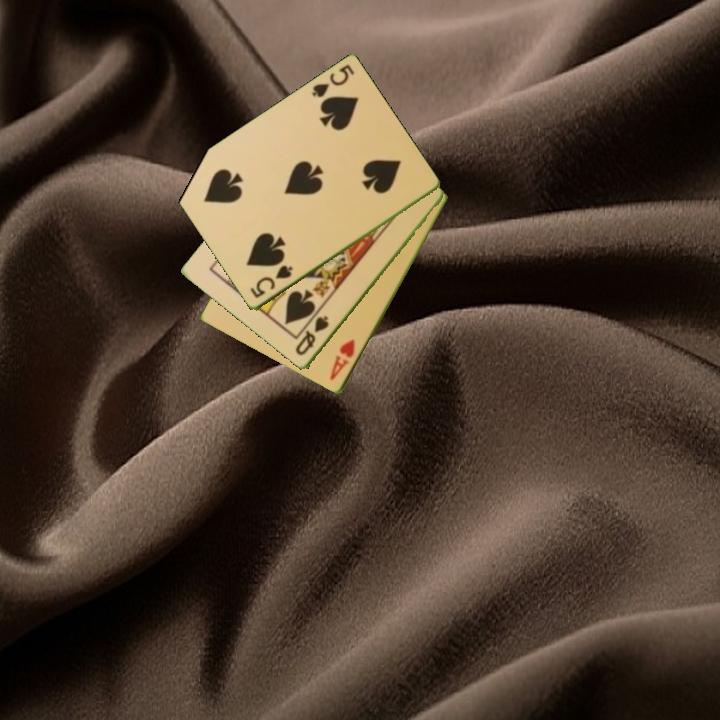5s: (246, 262, 296, 302), (308, 61, 357, 101)
Ah: (326, 336, 358, 384)
Qs: (292, 312, 332, 359)
